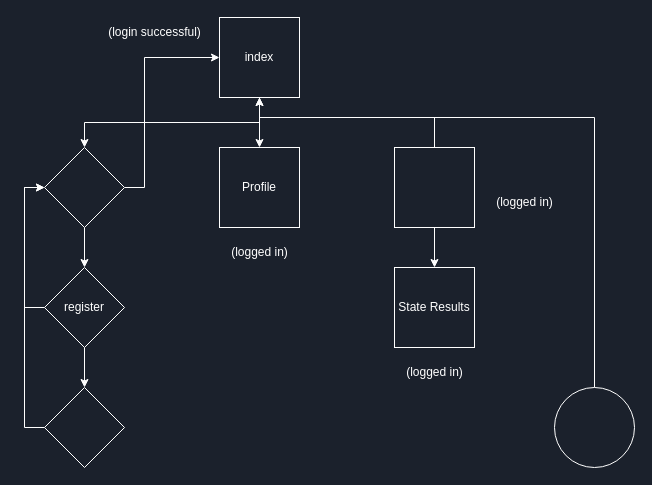
Some shapes in this 652 by 485 pixel diagram are drawn without their labels. The centre of each missing label's shape, as x and y in pixels:
404 error: point (594, 427)
login: point (84, 187)
register success: point (84, 427)
State: point (434, 187)
